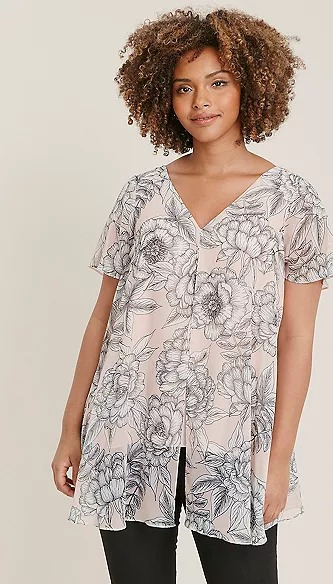C_short blouse: (81, 157, 333, 548)
